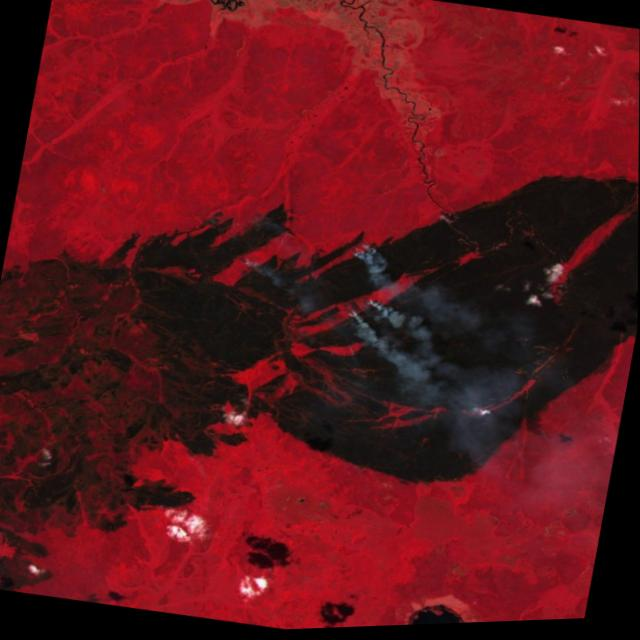fire: (338, 293, 385, 339), (247, 208, 291, 242), (224, 249, 267, 277), (339, 240, 380, 266)
